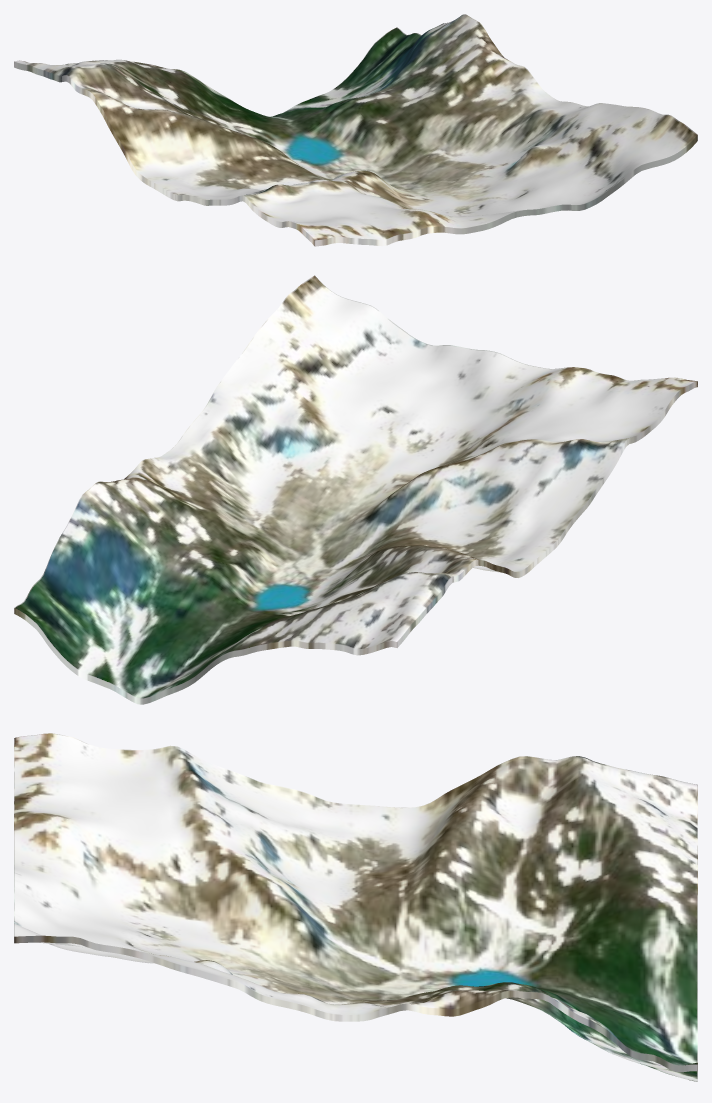
3 views of the same model, one above another, from view 1: azimuth 30°, elevation 25°; view 2: azimuth 150°, elevation 25°; view 3: azimuth 270°, elevation 25° (orthographic). The views are drawn at different scales.
Parts seen in each view (by area): view 1: tile; view 2: tile; view 3: tile.
Part boxes in pixels (x1,y1,x2,y2): tile: [14, 14, 697, 246]; tile: [14, 275, 697, 704]; tile: [14, 733, 697, 1081].
Size of the model in its own units: 2025 by 907 by 2752.
Materials: 1 (1 with a texture image).
